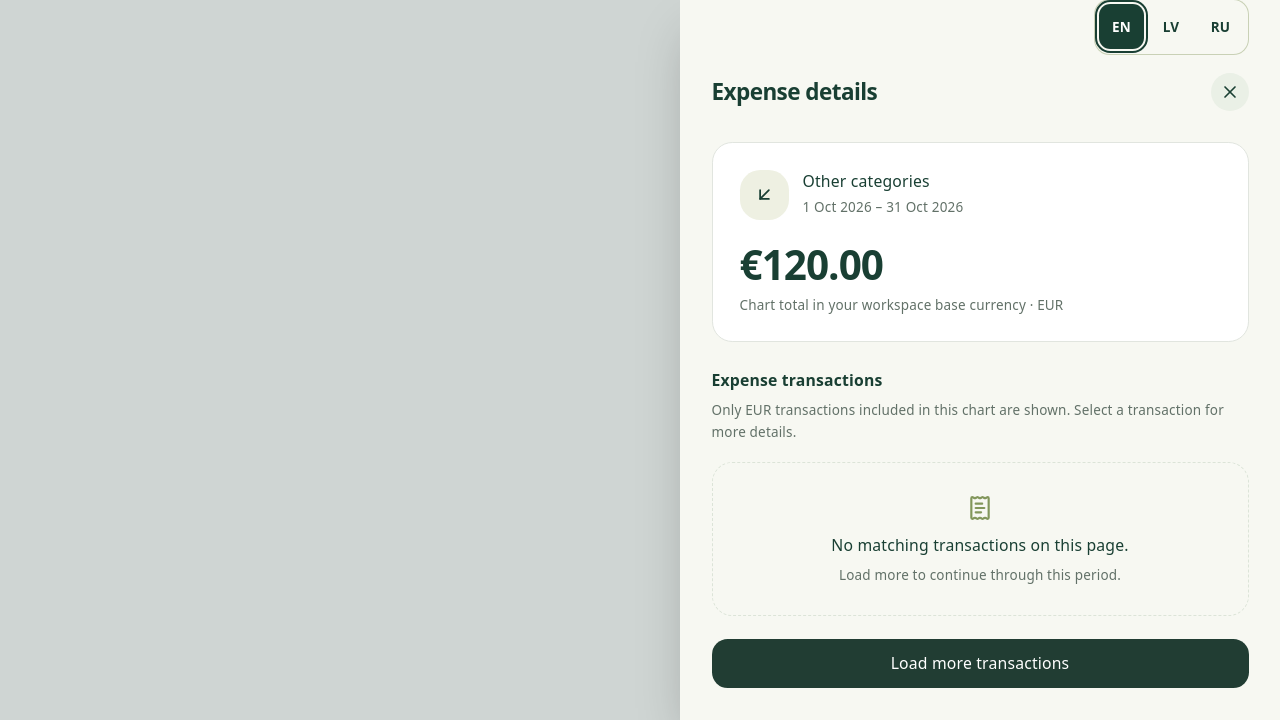
keeps combined-category drill-downs scoped while paging and excludes other currencies
(page scrolled)
Expected: the text "No matching transactions on this page." is shown, top-left (831, 534), bottom-right (1129, 556)
Expected: the text "Travel card" is not shown
Click the button "Load more transactions".
click(980, 664)  # box top-left (712, 639), bottom-right (1248, 688)
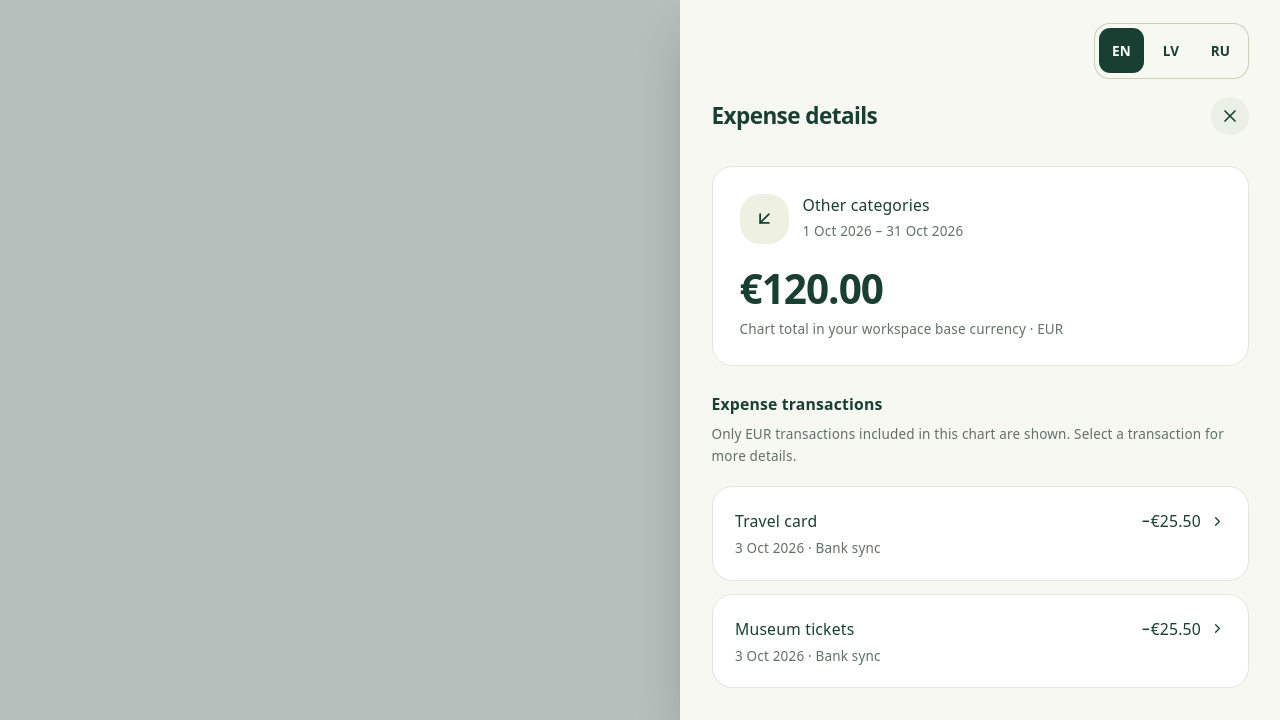
Now the text "Travel card" is shown, box top-left (735, 510), bottom-right (817, 532)
Now the text "Museum tickets" is shown, box top-left (735, 618), bottom-right (854, 640)
Now the text "−€25.50" is shown 2 times, box top-left (1142, 510), bottom-right (1225, 532); top-left (1142, 618), bottom-right (1225, 640)
Click the button "Travel card 3 Oct 2026 · Bank sync −€25.50".
click(776, 521)  # box top-left (712, 487), bottom-right (1248, 580)
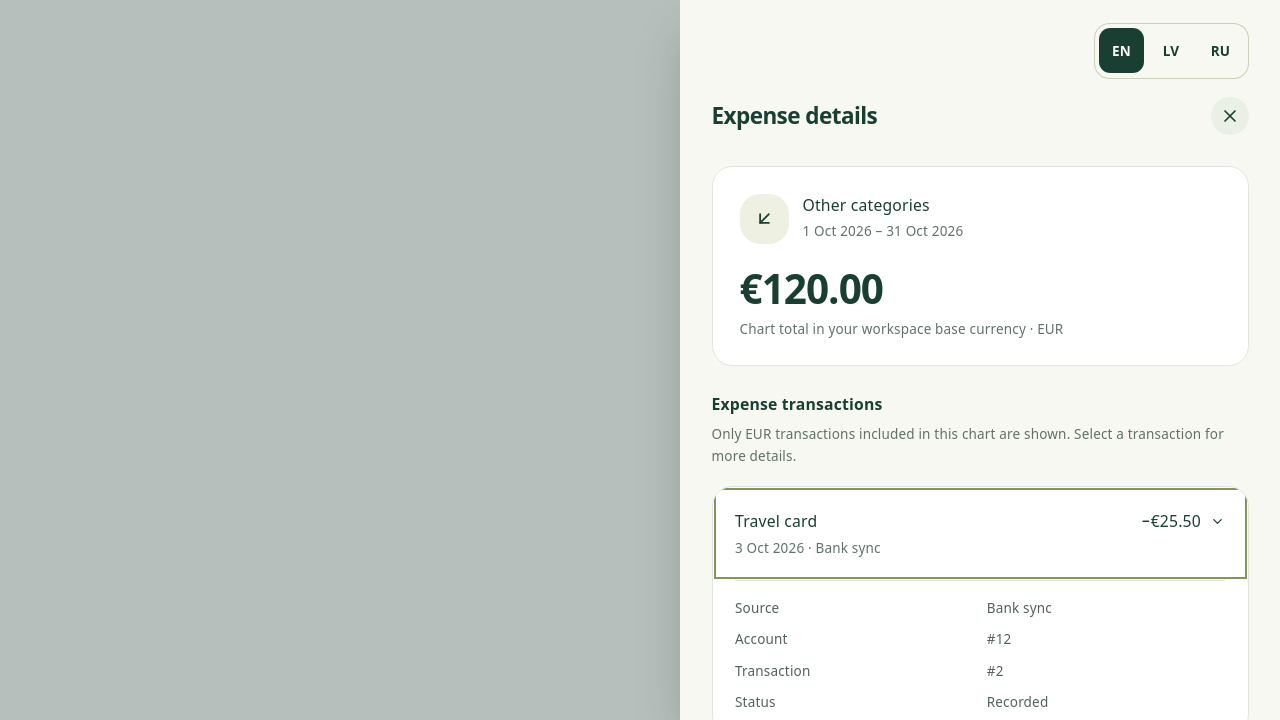
Now the text "#12" is shown, box top-left (987, 630), bottom-right (1012, 648)
